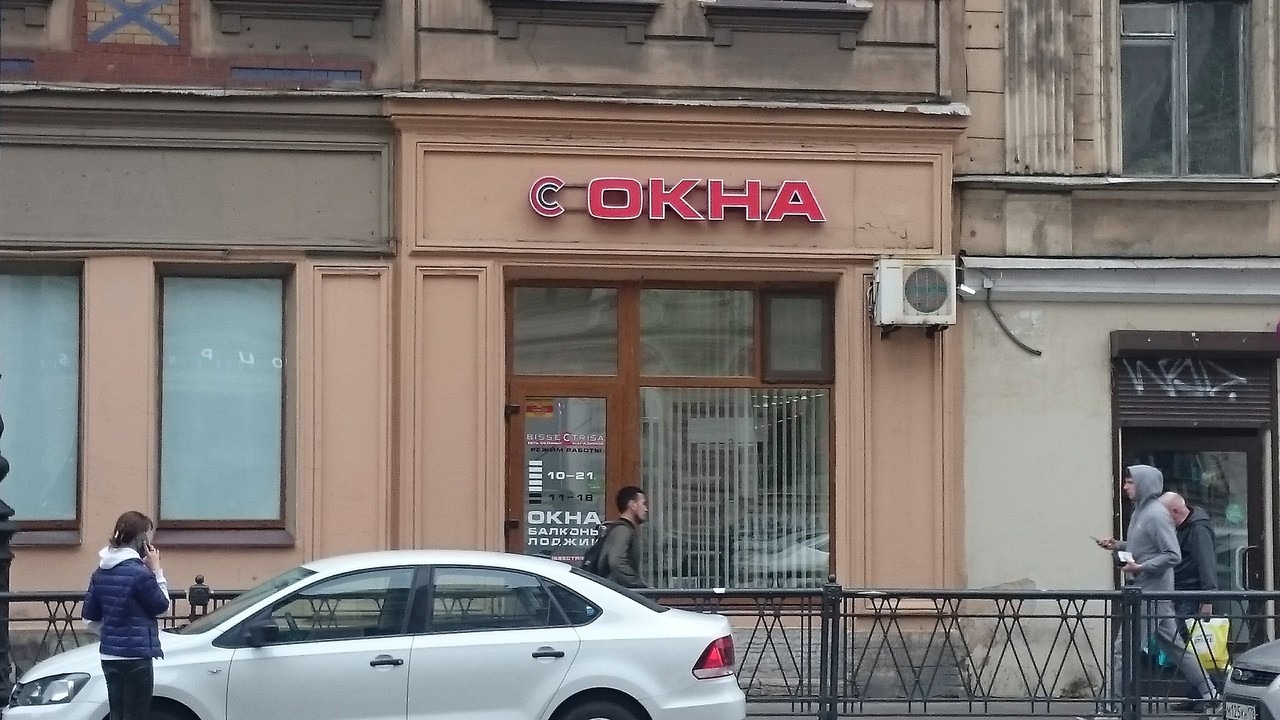signboard: (526, 172, 829, 230)
window: (507, 278, 833, 596), (157, 274, 287, 532), (1119, 1, 1248, 176), (1, 264, 83, 527)
